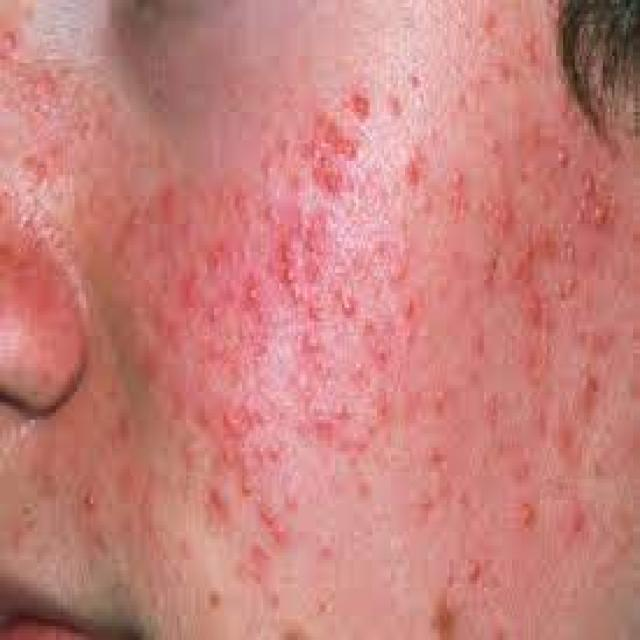Acne: (575, 165, 609, 234), (394, 282, 427, 346), (479, 190, 515, 244), (297, 329, 333, 381), (271, 222, 297, 288), (224, 404, 265, 441), (204, 481, 230, 537), (342, 80, 371, 126), (314, 154, 342, 198), (404, 147, 429, 196), (447, 167, 467, 226), (261, 502, 287, 546), (484, 124, 506, 170), (566, 502, 590, 544), (520, 24, 542, 68), (240, 276, 264, 315), (430, 382, 449, 427), (374, 333, 392, 379), (516, 496, 536, 536), (182, 273, 200, 316), (466, 550, 484, 591), (385, 86, 404, 122), (314, 414, 334, 448), (205, 297, 225, 331), (339, 135, 361, 164), (480, 9, 499, 42), (80, 484, 98, 516), (341, 290, 358, 323), (209, 245, 226, 278), (336, 394, 352, 424), (557, 143, 571, 173), (352, 358, 368, 383), (222, 446, 237, 470), (298, 413, 310, 438)
